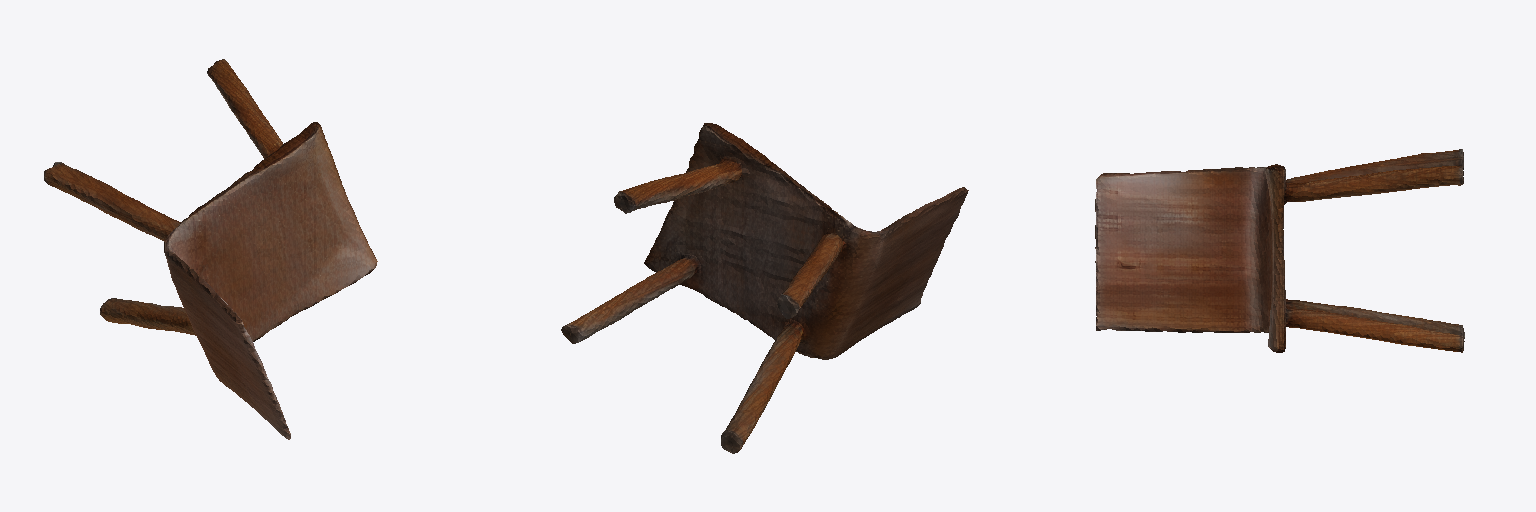
3 views of the same model, side by side, from view 1: azimuth 30°, elevation 25°; view 2: azimuth 150°, elevation 25°; view 3: azimuth 270°, elevation 25° (orthographic).
Size of the model in its own units: 1.51 by 1.4 by 1.98.
Materials: 1 (1 with a texture image).